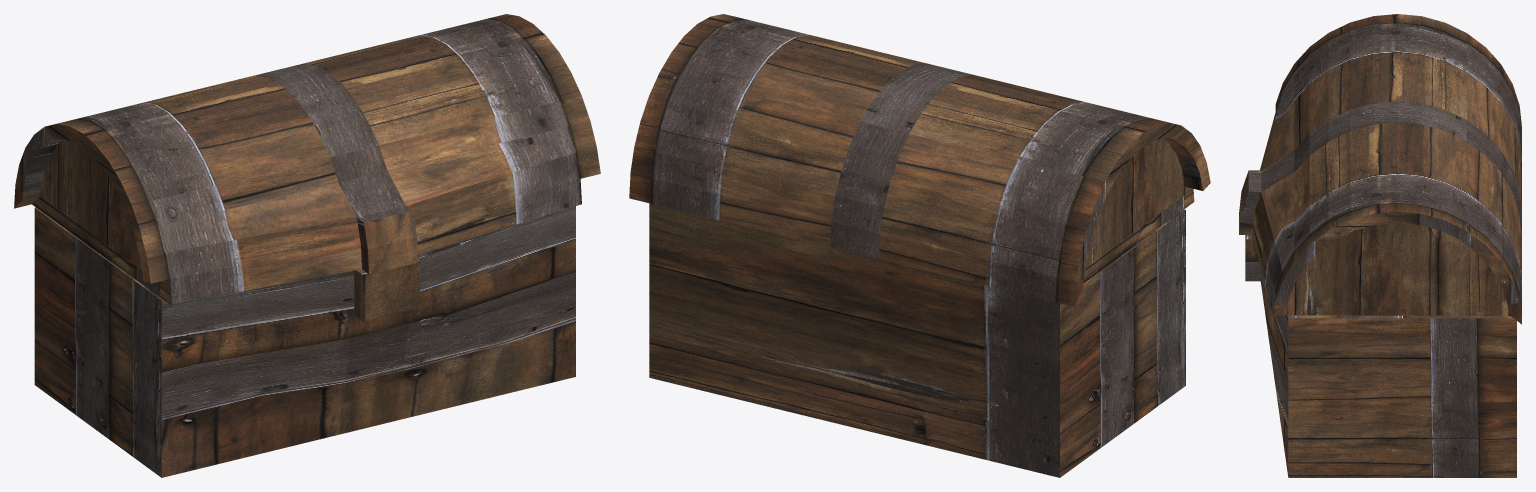
The model's file is chest1.fbx.
3 views of the same model, side by side, from view 1: azimuth 30°, elevation 25°; view 2: azimuth 150°, elevation 25°; view 3: azimuth 270°, elevation 25° (orthographic). The views are drawn at different scales.
Visible parts, largest first — view 1: Cylinder, Cube; view 2: Cylinder, Cube; view 3: Cylinder, Cube.
Part boxes in pixels (bbox=[...]): Cylinder: bbox=[14, 14, 600, 304]; Cube: bbox=[34, 206, 575, 477]; Cylinder: bbox=[629, 14, 1210, 306]; Cube: bbox=[649, 203, 1185, 477]; Cylinder: bbox=[1239, 14, 1521, 324]; Cube: bbox=[1245, 235, 1516, 477].
Bounding box in the file's own units: 376 × 243 × 227.
Materials: 1 (1 with a texture image).
